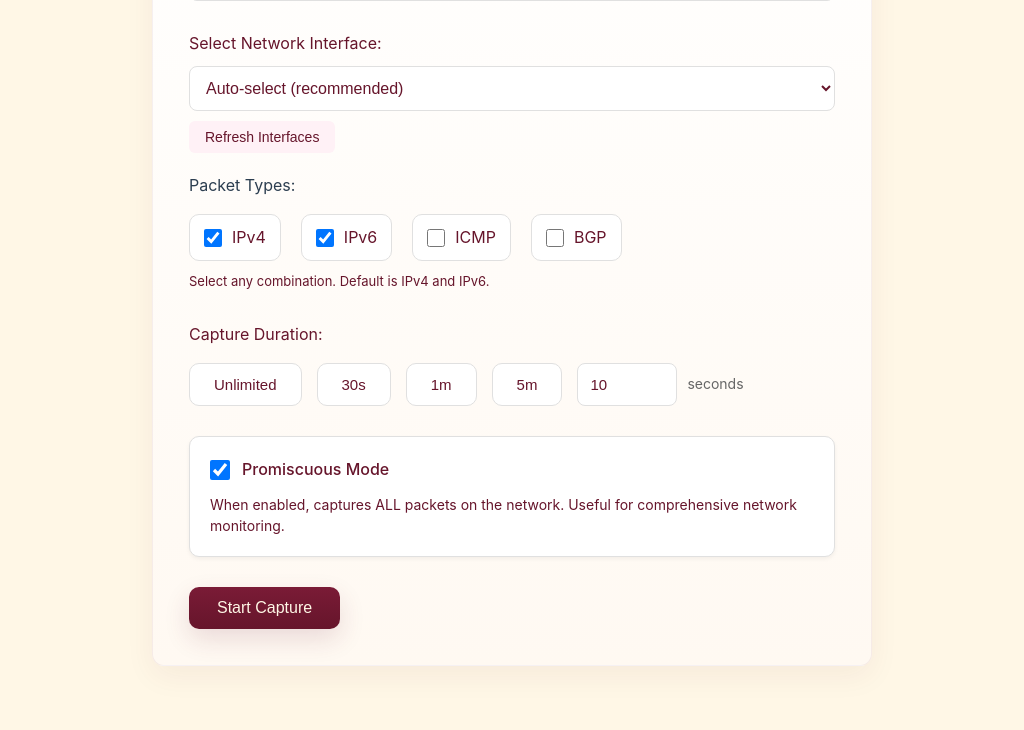
Home Component › displays success message after capture
The width and height of the screenshot is (1024, 730).
(page scrolled)
Click the button "Start Capture". click: click(265, 608)
box: [189,587,340,629]
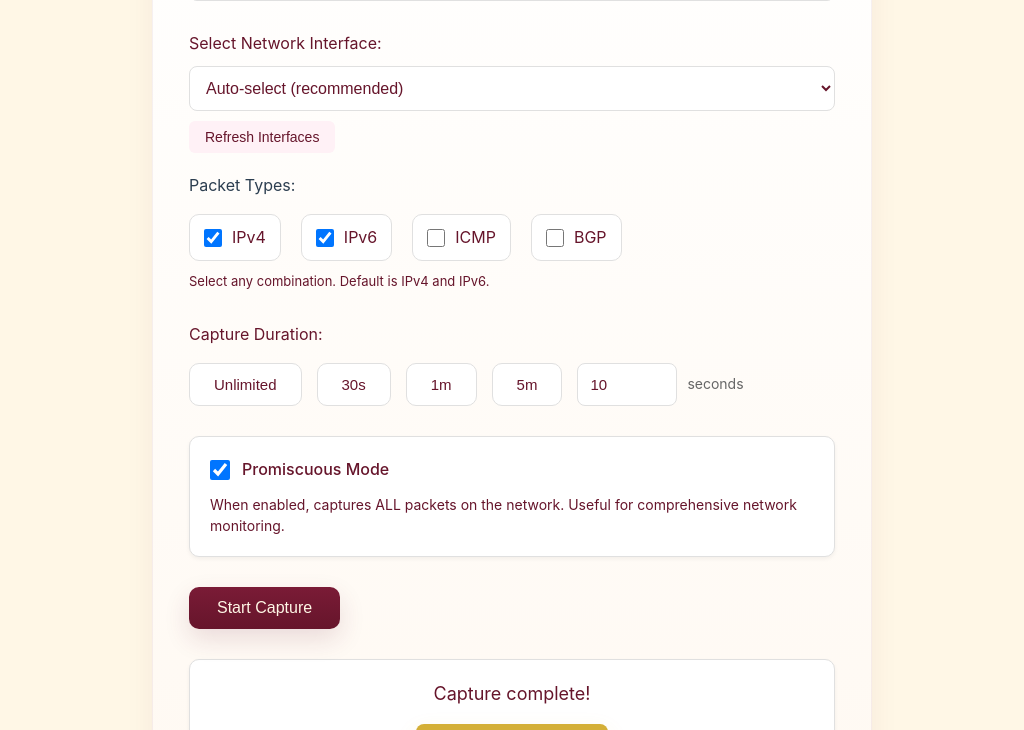
Result: the text "Capture complete!" is shown at [434,683,590,704]
